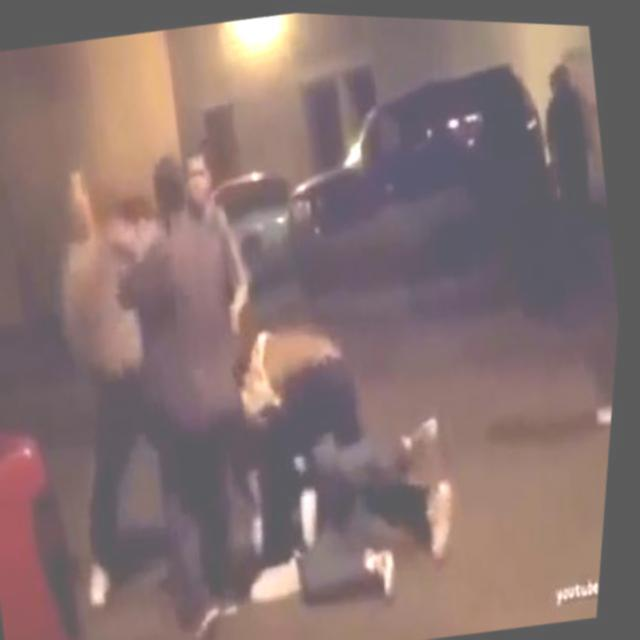fight: (18, 129, 304, 640), (182, 298, 496, 622)
